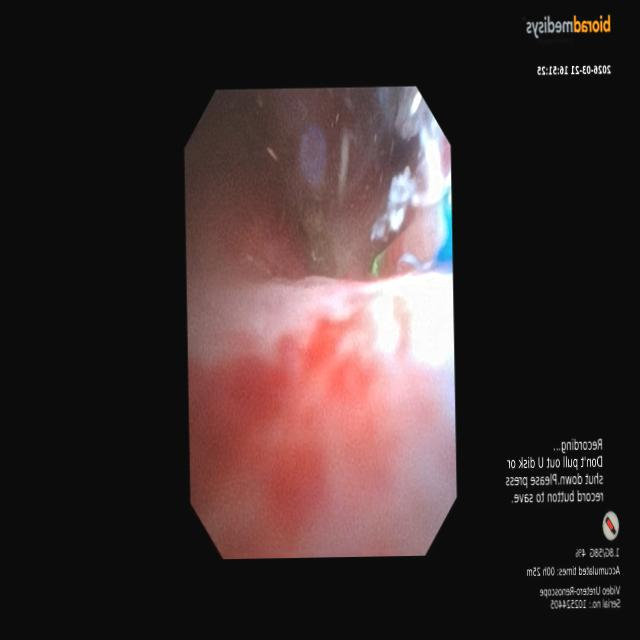laser-fibre: (375, 204, 444, 277)
